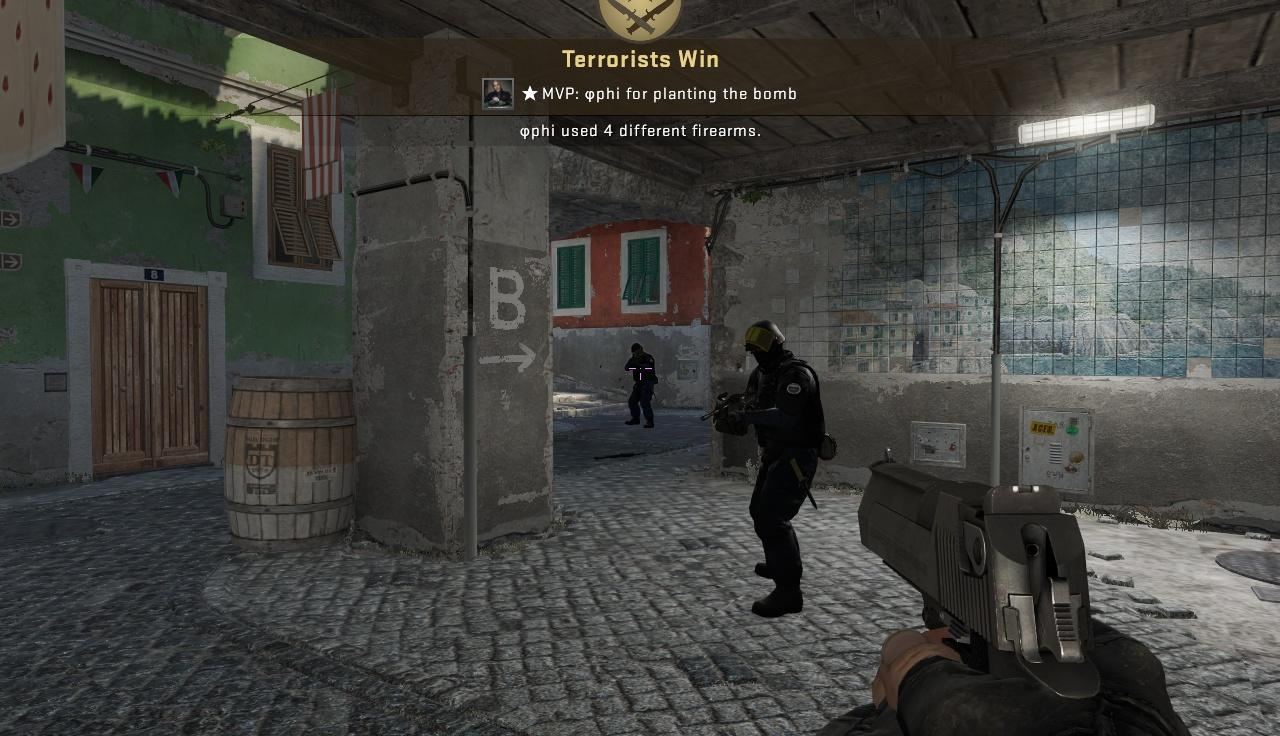ct: (738, 319, 823, 616), (625, 343, 655, 428)
cthead: (743, 321, 786, 364), (630, 343, 644, 357)
pistol: (852, 448, 1140, 735)
